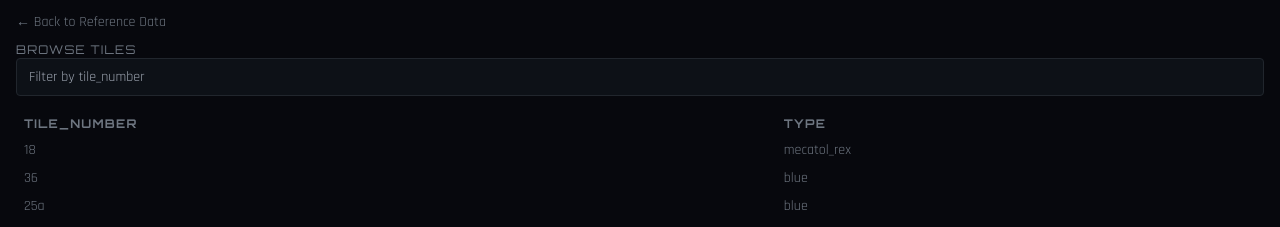
Test case: AdminBrowsePage › filter input narrows displayed rows case-insensitively
Type "25" into the field with placeholder "Filter by tile_number" at {"x": 640, "y": 77}, box 16,58 -> 1264,96
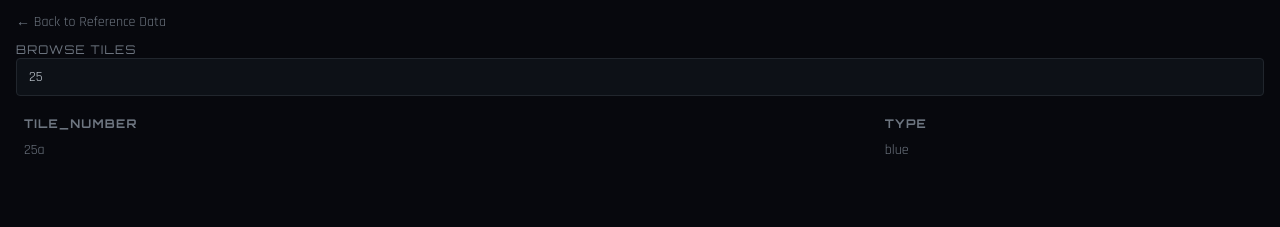
Check: the text "18" is gone
Check: the text "36" is gone
Check: the text "25a" is shown, box 16,136 -> 877,164
